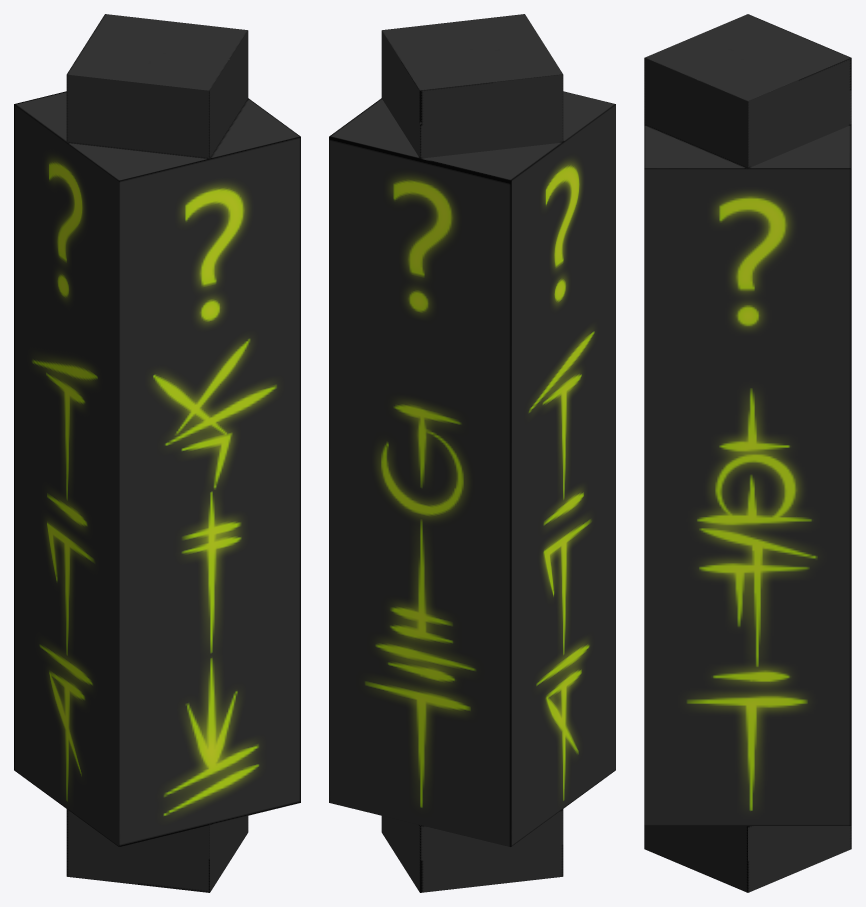
The model's file is Guide Stone.FBX.
3 renders of one model, left to right at view 1: azimuth 30°, elevation 25°; view 2: azimuth 150°, elevation 25°; view 3: azimuth 270°, elevation 25°, orthographic.
Parts seen in each view (by area): view 1: Box001; view 2: Box001; view 3: Box001.
Part boxes in pixels (left/top/right/bottom): Box001: left=14, top=14, right=300, bottom=892; Box001: left=329, top=14, right=615, bottom=892; Box001: left=644, top=14, right=851, bottom=892.
Bounding box in the file's own units: 0.7 × 2.95 × 0.7.
1 material, 1 textured.
